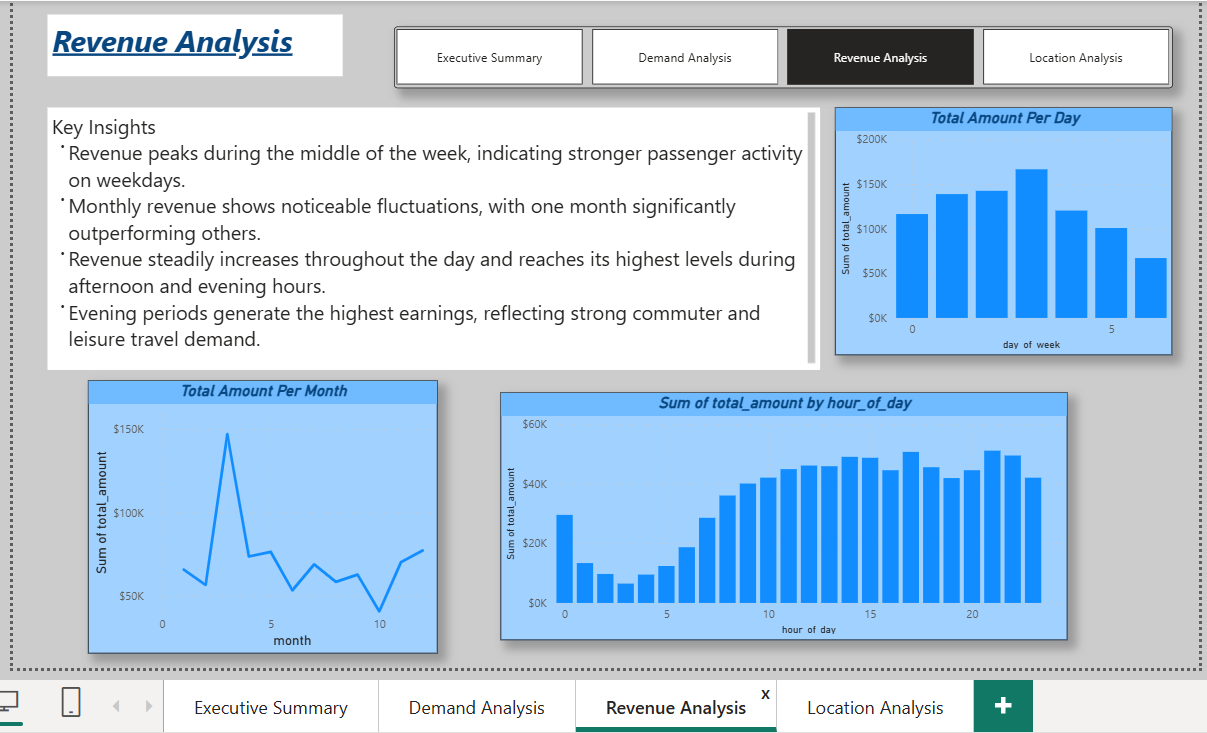

The page's visual inventory and layout, read from the dashboard file:
{"tool":"powerbi","page":{"name":"Revenue Analysis","canvas":[1280,720],"ordinal":2},"visuals":[{"type":"lineChart","title":"Total  Amount Per Month","fields":{"Category":["uber_small.month"],"Y":["Sum(uber_small.total_amount)"]},"box":[81,409.7,377.3,294.7],"z":0},{"type":"columnChart","title":"Total Amount Per Day","fields":{"Category":["uber_small.day_of_week"],"Y":["Sum(uber_small.total_amount)"]},"box":[887.3,115,364.3,267.2],"z":1000},{"type":"textbox","box":[37.2,14.6,319,66.4],"z":2000},{"type":"clusteredColumnChart","fields":{"Y":["Sum(uber_small.total_amount)"],"Category":["uber_small.hour_of_day"]},"box":[526.2,422.6,612.1,267.2],"z":3000},{"type":"pageNavigator","box":[411.3,27.5,840.4,66.4],"z":4000},{"type":"textbox","box":[37.2,115,833.9,283.4],"z":5000}]}

Visuals, with their boxes on the page's 1280x720 design canvas (x1, y1, x2, y2). These are canvas units, not pixel positions in the 1207x733 screenshot, which may show the page scaled, cropped or inside an application window:
"Total  Amount Per Month" lineChart: detection(81, 410, 458, 704)
"Total Amount Per Day" columnChart: detection(887, 115, 1252, 382)
textbox: detection(37, 15, 356, 81)
clusteredColumnChart - Sum(uber_small.total_amount) x uber_small.hour_of_day: detection(526, 423, 1138, 690)
pageNavigator: detection(411, 28, 1252, 94)
textbox: detection(37, 115, 871, 398)
